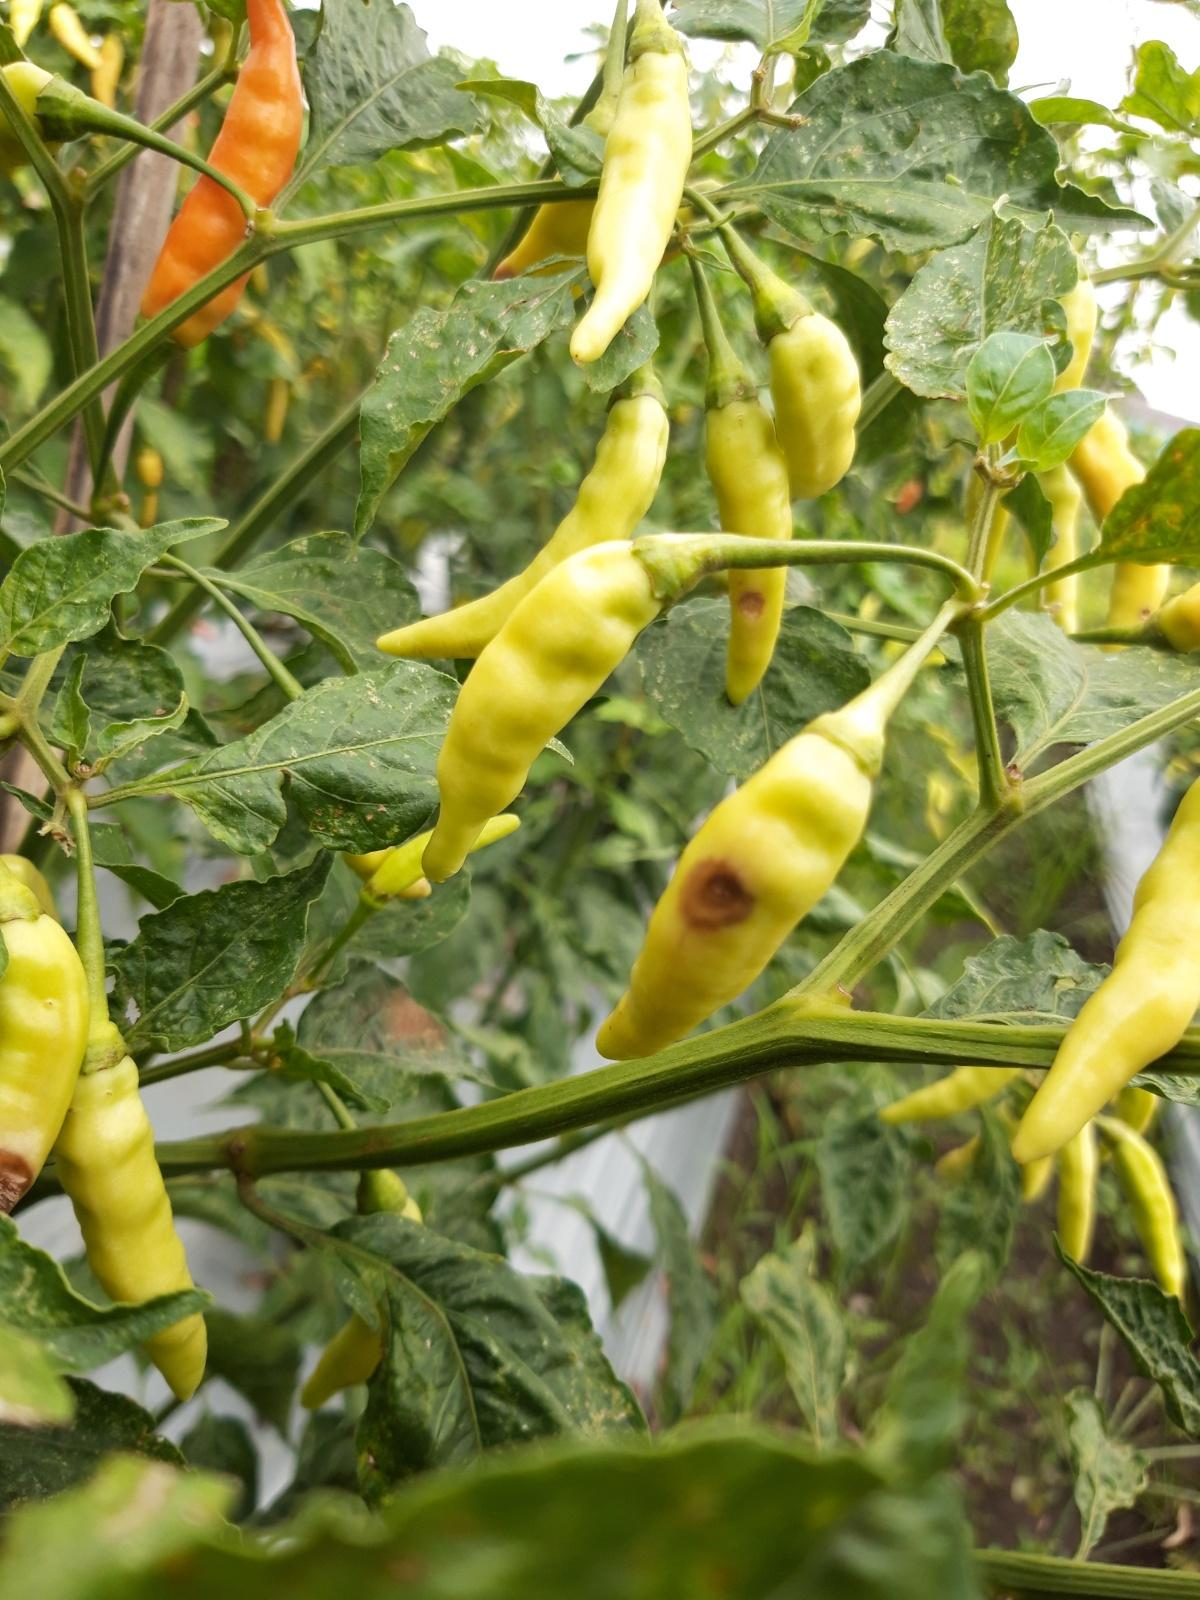cabai_normal: (420, 533, 697, 884), (377, 374, 667, 661), (1011, 779, 1200, 1164), (52, 999, 207, 1405), (134, 1, 304, 360), (568, 23, 693, 364), (1053, 394, 1168, 655), (755, 283, 861, 496), (1097, 1115, 1184, 1295), (879, 1057, 1017, 1125)
lalat_buah: (597, 709, 880, 1062), (1, 864, 91, 1214), (705, 362, 790, 706)
